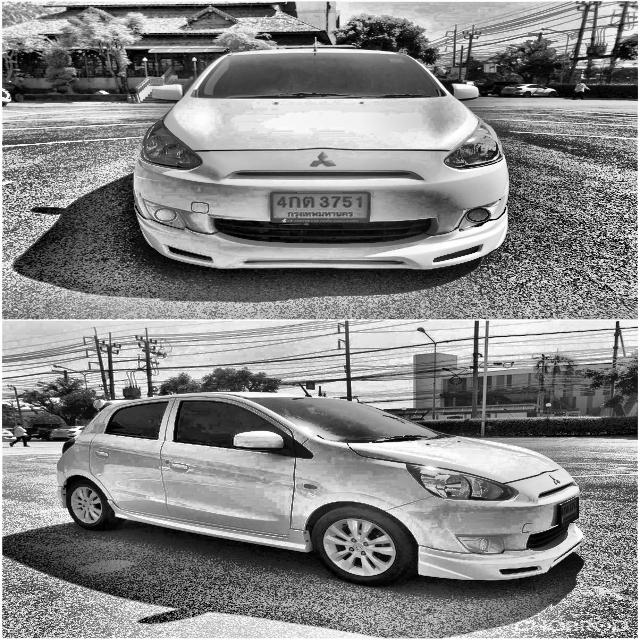license-plate: (269, 188, 373, 225), (554, 496, 588, 526)
